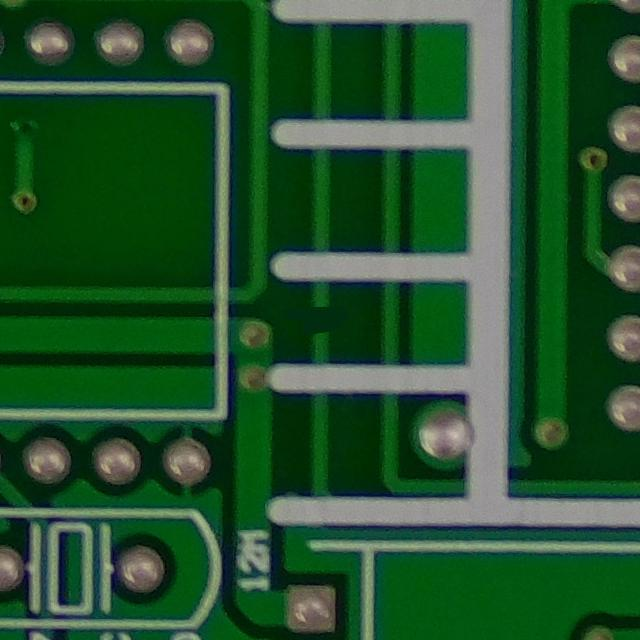open_circuit: (303, 297, 338, 344)
